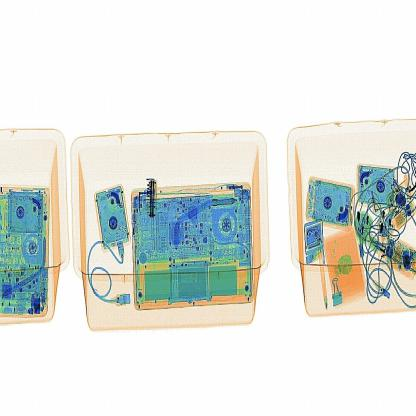scissors: (146, 173, 162, 225)
